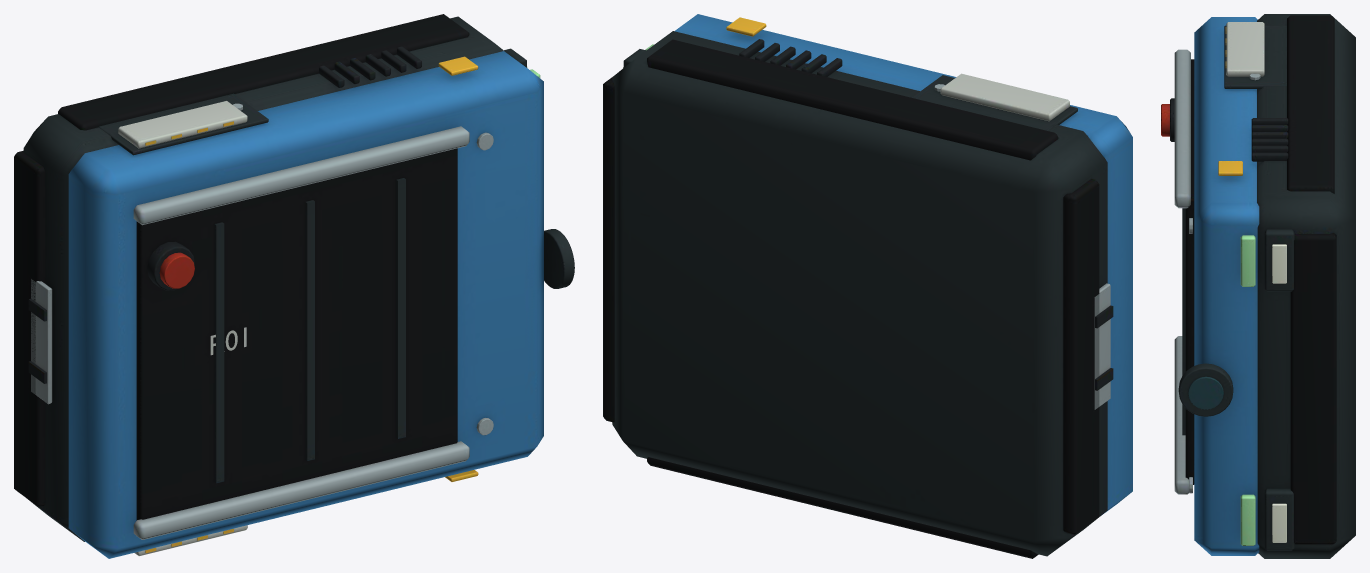
Rendered from body_blue.obj.
3 renders of one model, left to right at view 1: azimuth 30°, elevation 25°; view 2: azimuth 150°, elevation 25°; view 3: azimuth 270°, elevation 25°, orthographic. The views are drawn at different scales.
Visible parts, largest first — view 1: body_blue; view 2: body_blue; view 3: body_blue.
Part boxes in pixels (x1=…): body_blue: x1=14, y1=14, x2=574, y2=558; body_blue: x1=603, y1=14, x2=1132, y2=558; body_blue: x1=1161, y1=14, x2=1355, y2=558.
Size of the model in its own units: 0.3725 by 0.3061 by 0.143.
Materials: 3 (3 with a texture image).
